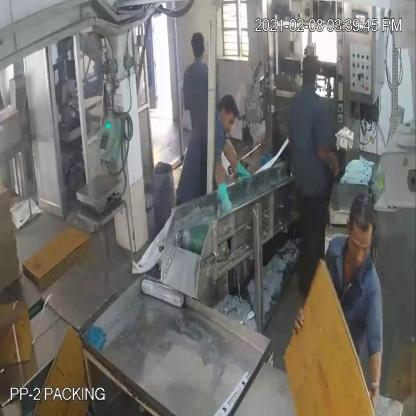glove: (208, 162, 236, 223)
no_glove: (362, 327, 386, 416)
